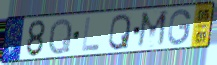8: (25, 19, 47, 58)
G: (166, 8, 193, 48)
L: (80, 16, 101, 54)
M: (135, 9, 170, 51)
Q: (47, 16, 74, 56), (107, 12, 133, 52)
